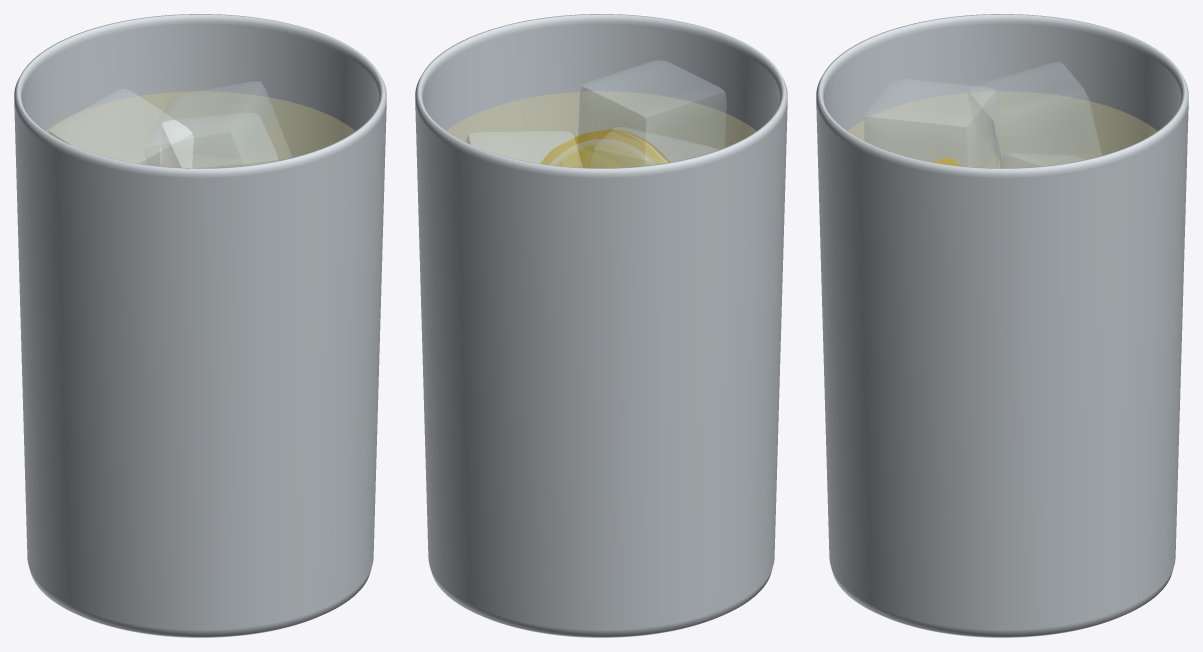
3 views of the same model, side by side, from view 1: azimuth 30°, elevation 25°; view 2: azimuth 150°, elevation 25°; view 3: azimuth 270°, elevation 25° (orthographic).
Visible parts, largest first — view 1: glass, liquid, ice_02, ice_01, ice_03; view 2: glass, liquid, ice_03, lemon_01, ice_01, ice_02; view 3: glass, liquid, ice_01, ice_03, ice_02.
Part boxes in pixels (x1,y1,x2,y2): glass: (14,14,386,637); liquid: (46,91,354,167); ice_02: (144,81,291,167); ice_01: (49,89,193,167); ice_03: (160,112,278,167); glass: (415,14,787,637); liquid: (447,92,755,167); ice_03: (577,60,726,167); lemon_01: (540,129,670,167); ice_01: (589,127,717,167); ice_02: (466,131,582,167); glass: (816,14,1188,637); liquid: (848,92,1156,167); ice_01: (968,62,1101,167); ice_03: (864,79,999,167); ice_02: (998,153,1084,167).
Bounding box in the file's own units: 0.085 × 0.12 × 0.085.
5 materials, 1 textured.
